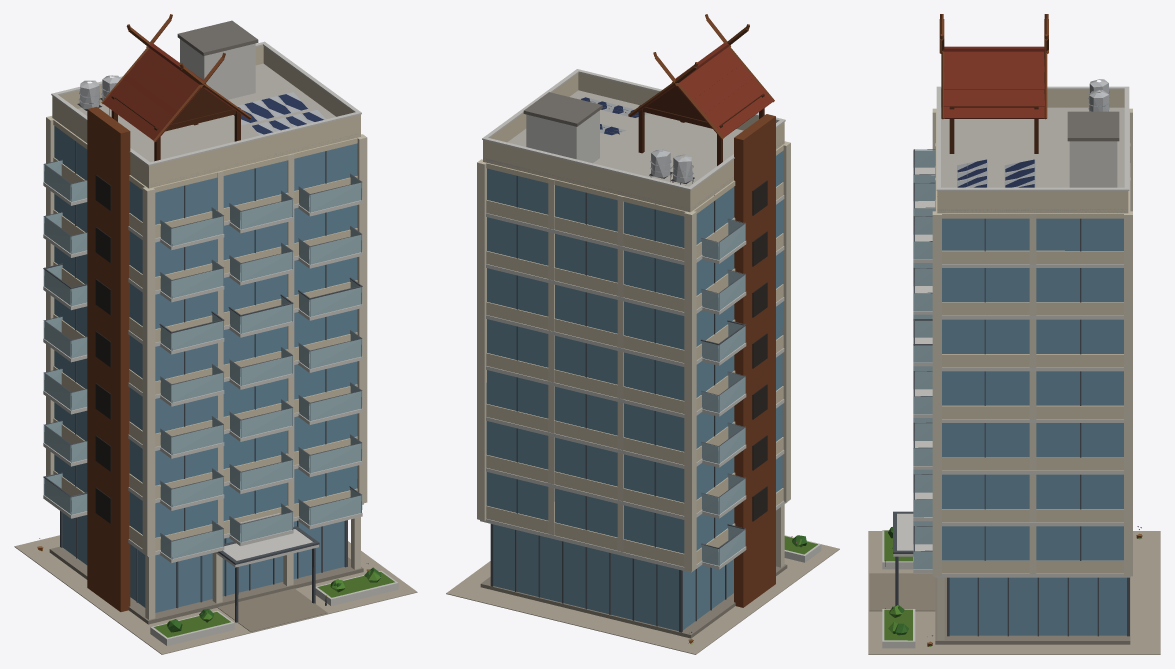
The model's file is home_4.glb.
The picture shows the model from 3 angles, left to right: view 1: azimuth 30°, elevation 25°; view 2: azimuth 150°, elevation 25°; view 3: azimuth 270°, elevation 25°; orthographic projection. The views are drawn at different scales.
Parts seen in each view (by area): view 1: body, windows; view 2: body, windows; view 3: body.
Part boxes in pixels (bbox=[...]): body: bbox=[14, 14, 417, 654]; windows: bbox=[95, 175, 326, 596]; body: bbox=[446, 14, 839, 654]; windows: bbox=[752, 180, 767, 521]; body: bbox=[868, 14, 1160, 654].
Bounding box in the file's own units: 15.9 × 32.93 × 15.9.
